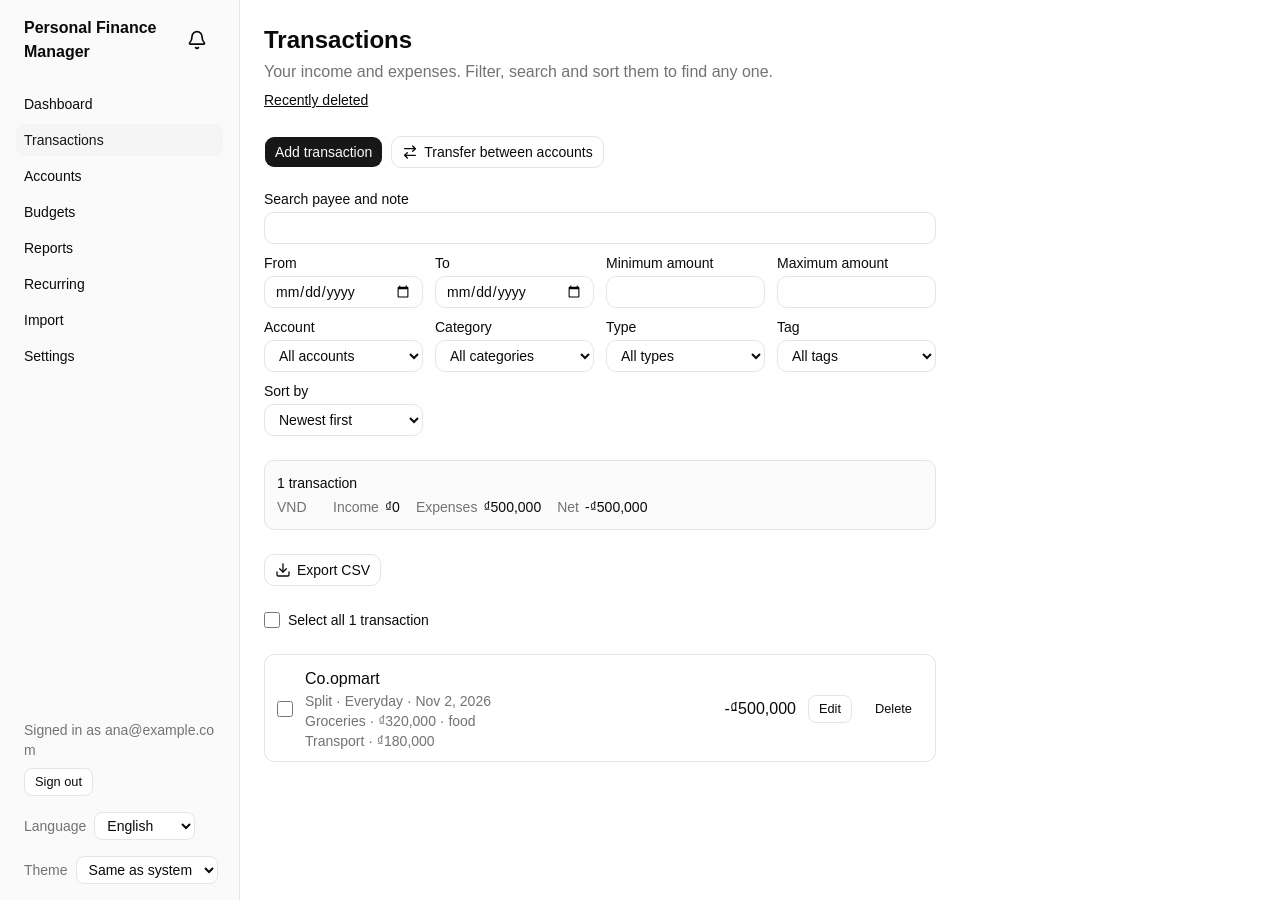
Test: split transactions › become one category again, the first line’s unless another is chosen
Click the button with aria-label "Edit Co.opmart": x=830, y=709 [808,695,852,723]
(page scrolled)
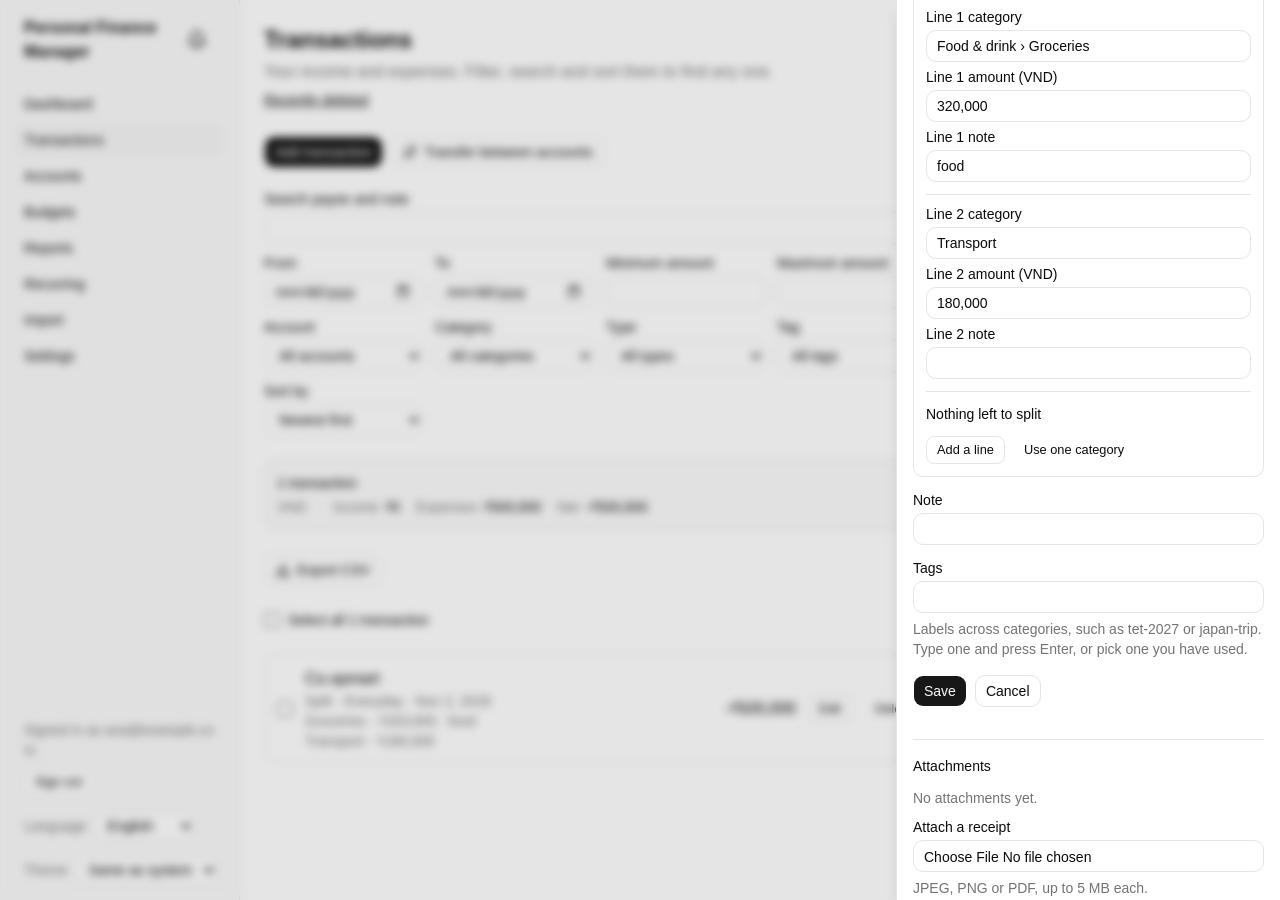
Click the button "Use one category": x=1074, y=450 [1013,436,1135,464]
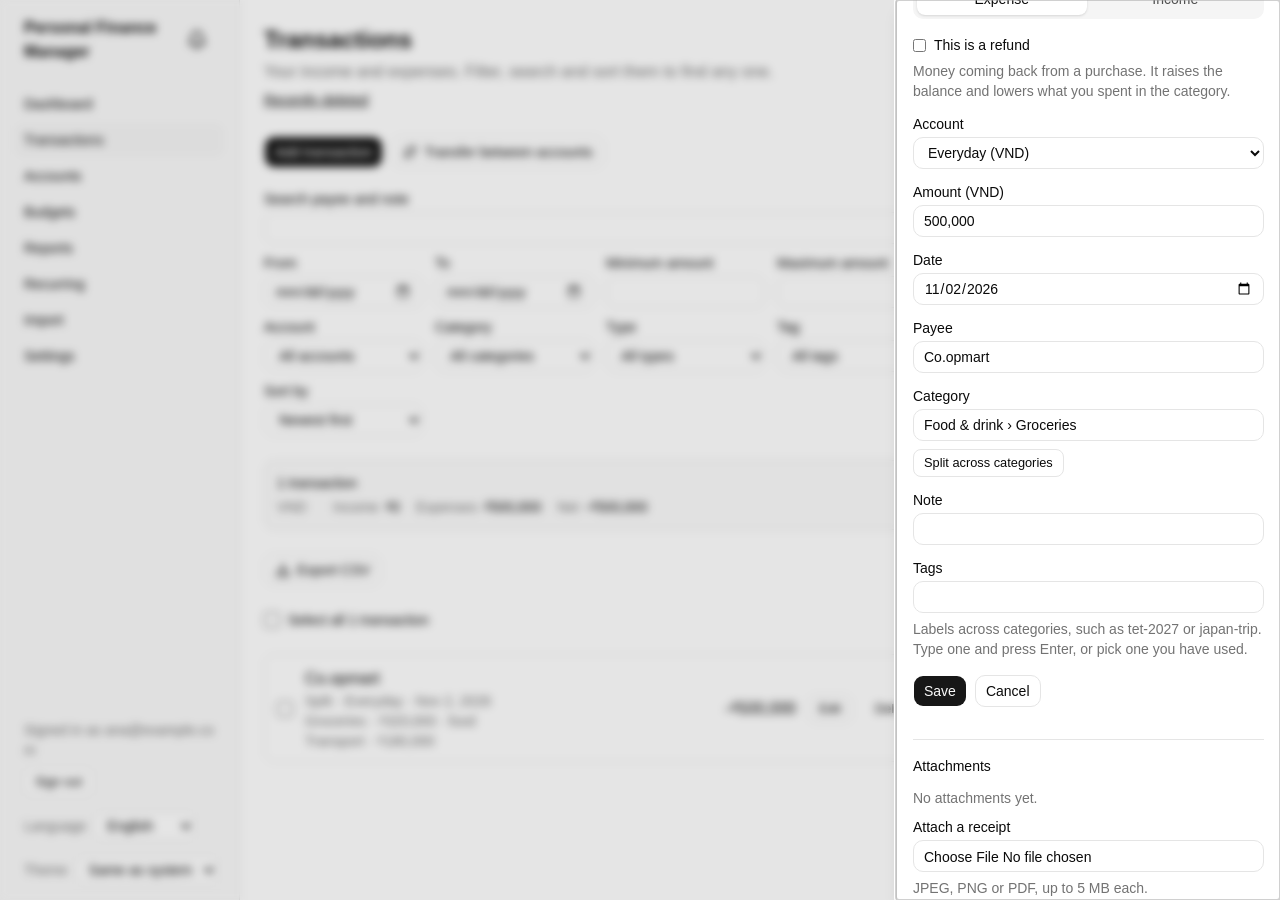
Check: the dropdown labelled "Category" holds "Food & drink › Groceries", box [913,409,1264,441]
Check: the label labelled "Line 1 category" is gone
Click the button "Save": x=940, y=691 [913,675,967,707]
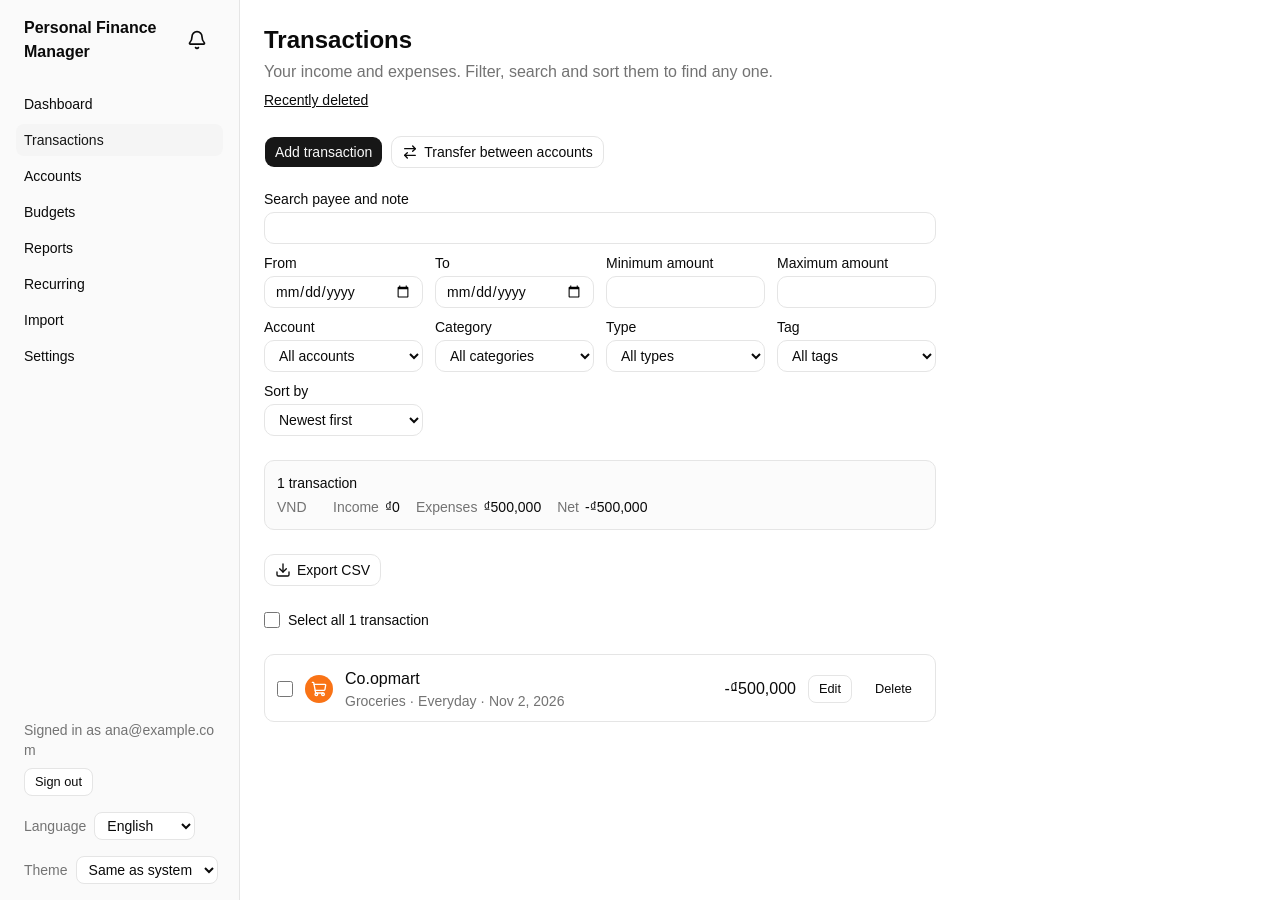
Check: the dialog is gone
Check: the text with test id "details" reads "Groceries · Everyday · Nov 2, 2026", box [345,693,564,709]
